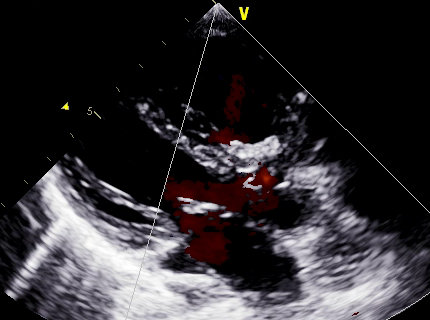AR: (179, 163, 289, 224)
